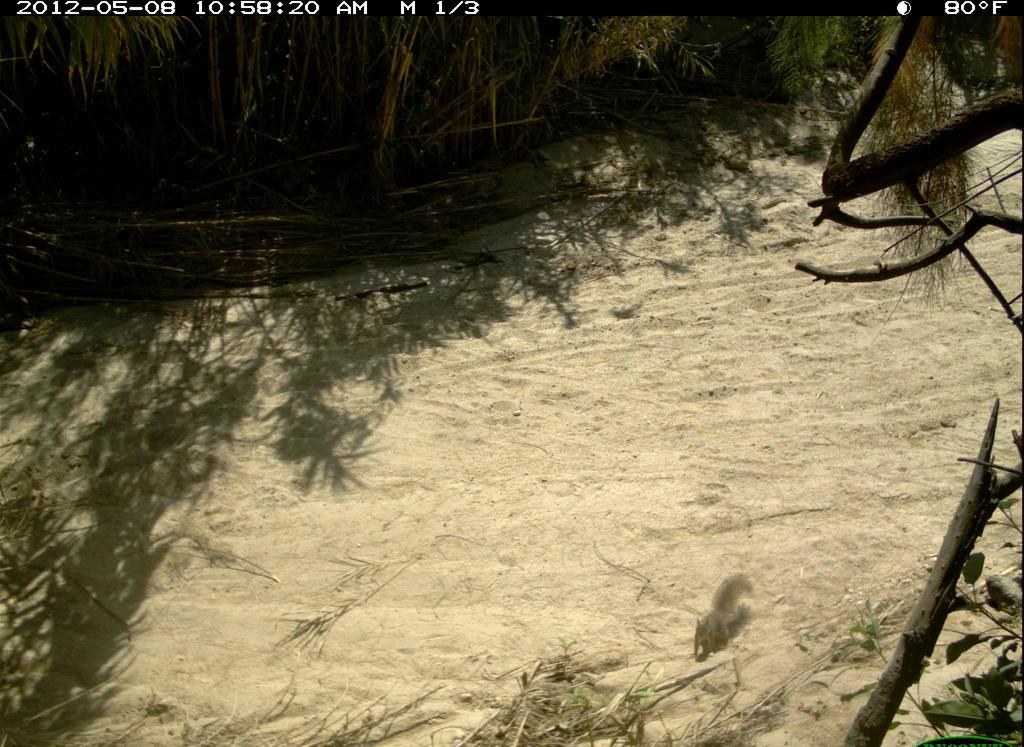squirrel: (679, 564, 763, 669)
